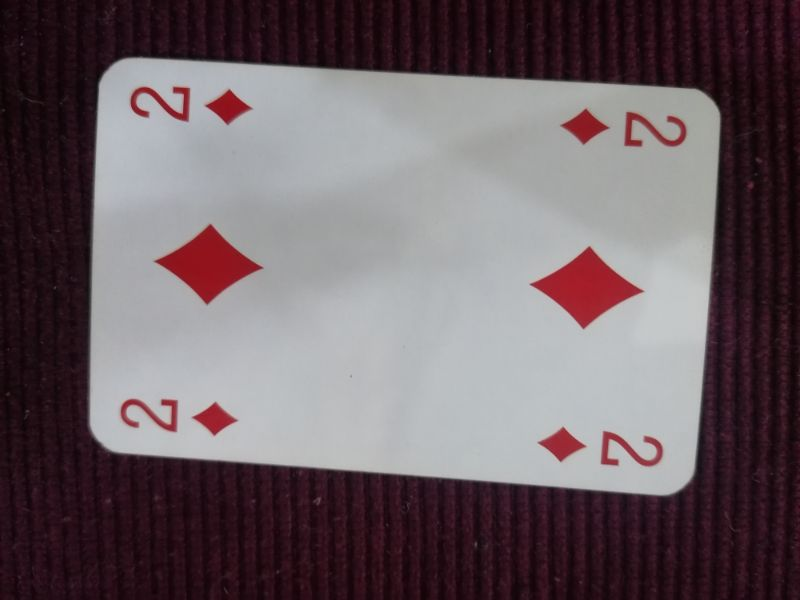2d: (554, 97, 692, 158), (535, 422, 668, 475), (128, 82, 256, 127), (117, 393, 243, 438)
